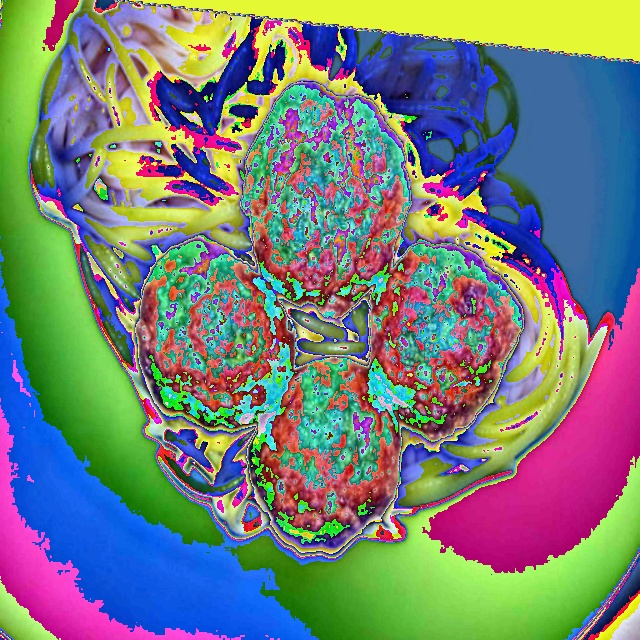background: (30, 0, 614, 562)
